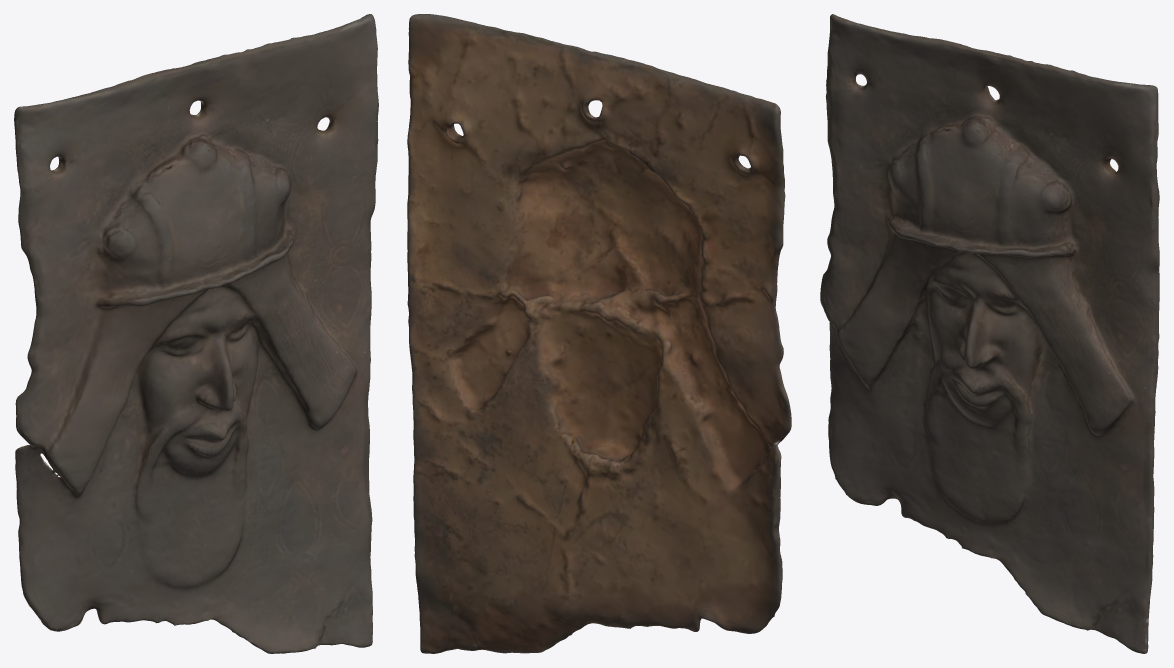
Rendered from preview.glb.
3 views of the same model, side by side, from view 1: azimuth 30°, elevation 25°; view 2: azimuth 150°, elevation 25°; view 3: azimuth 330°, elevation 25° (orthographic). The views are drawn at different scales.
Visible parts, largest first — view 1: Object_2; view 2: Object_2; view 3: Object_2.
Boxes of the visible parts, x1,y1,x2,y2 form: Object_2: [14, 14, 378, 653]; Object_2: [407, 14, 791, 653]; Object_2: [820, 14, 1159, 653].
Bounding box in the file's own units: 32.63 × 53.37 × 5.95.
Materials: 1 (1 with a texture image).
